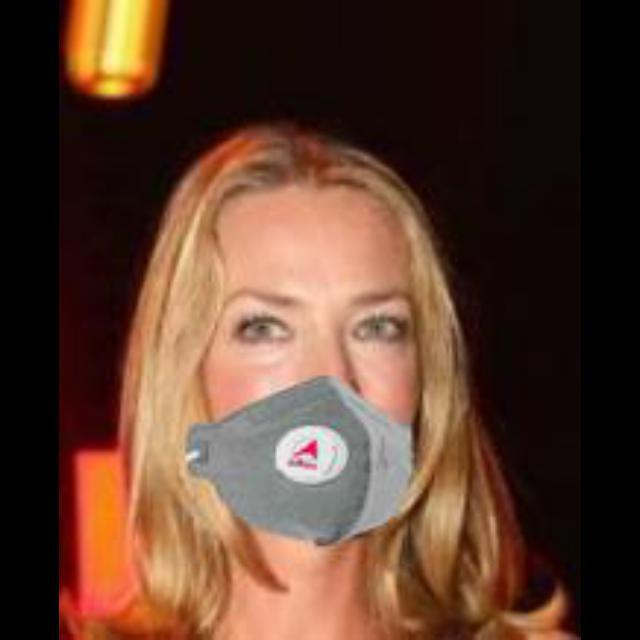suspicion: (145, 162, 532, 580)
